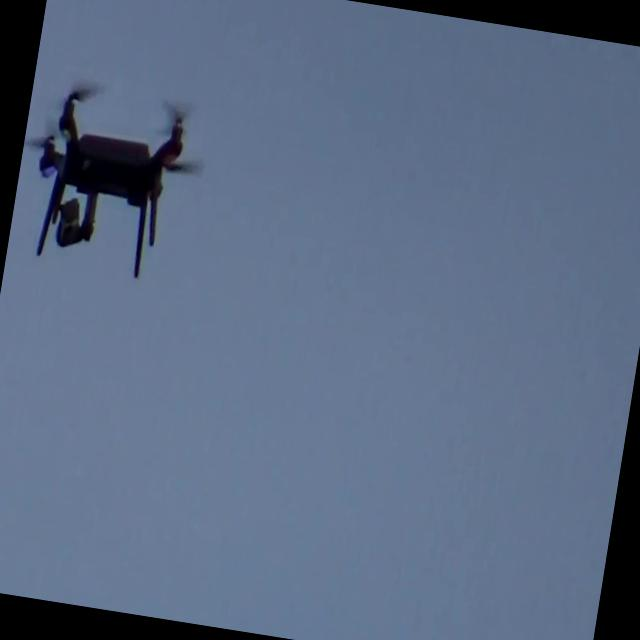drone: (22, 71, 192, 285)
